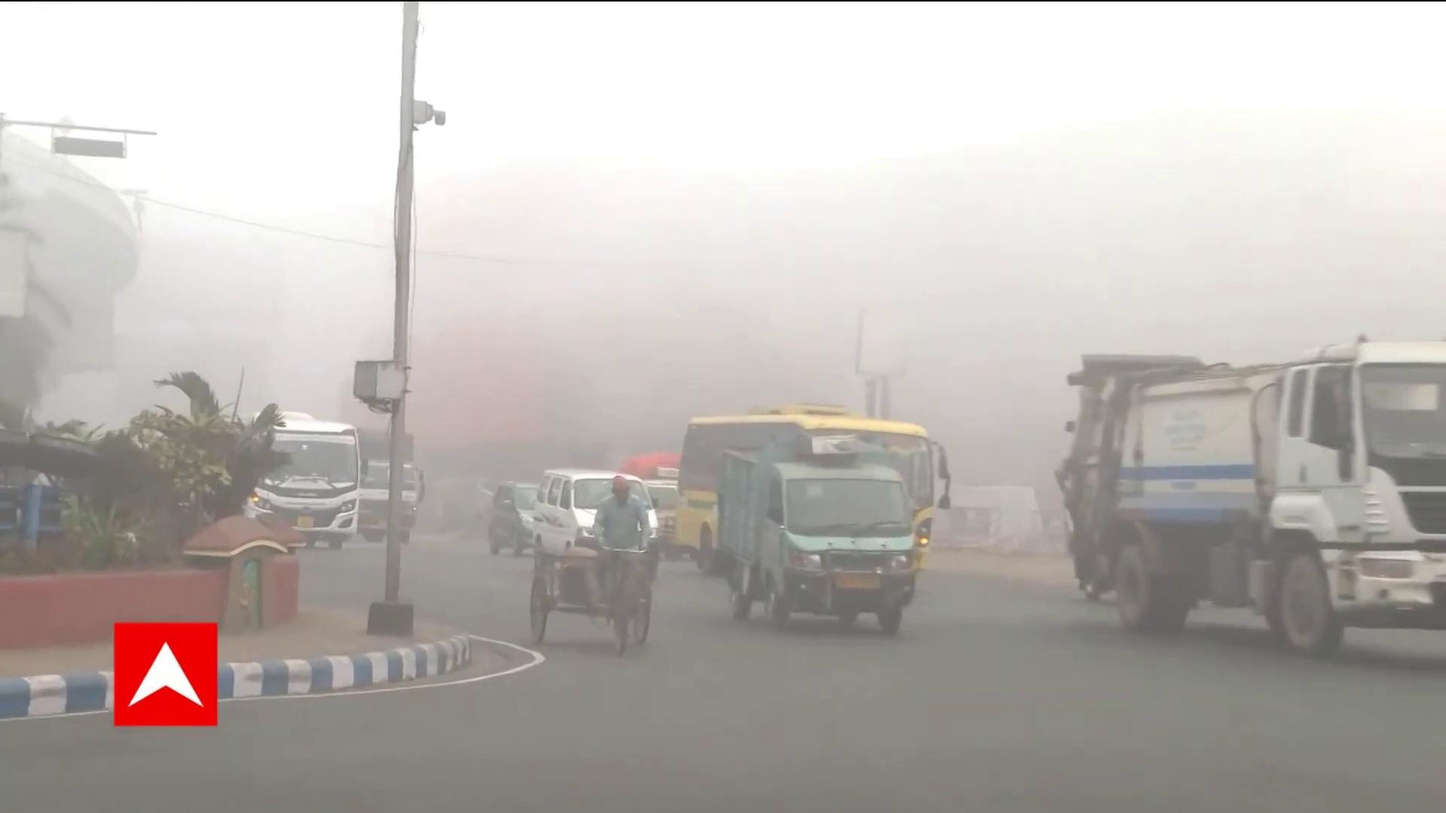Bus: (672, 407, 945, 580)
Car: (531, 460, 661, 574)
Truck: (1046, 346, 1446, 654), (706, 444, 915, 632)
